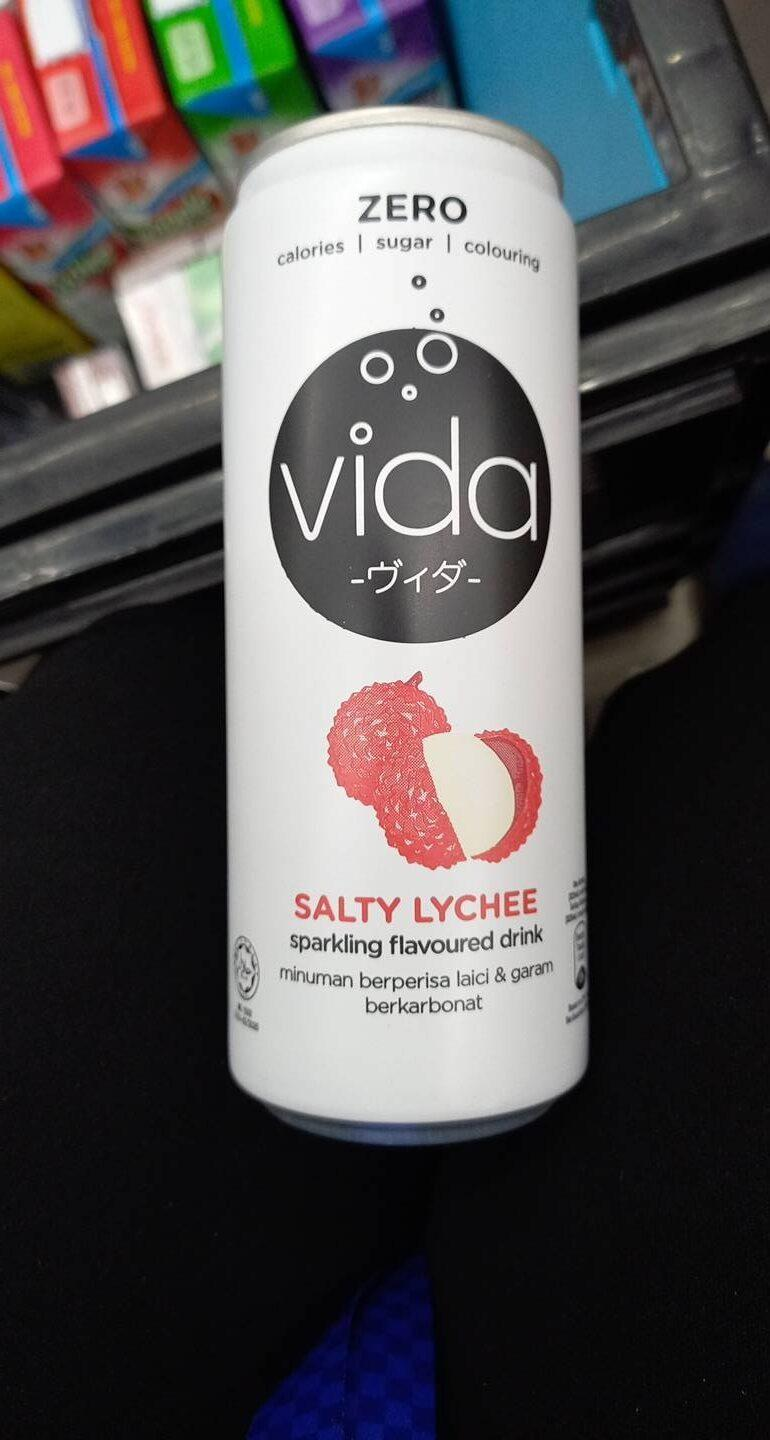metal: (210, 100, 601, 1130)
